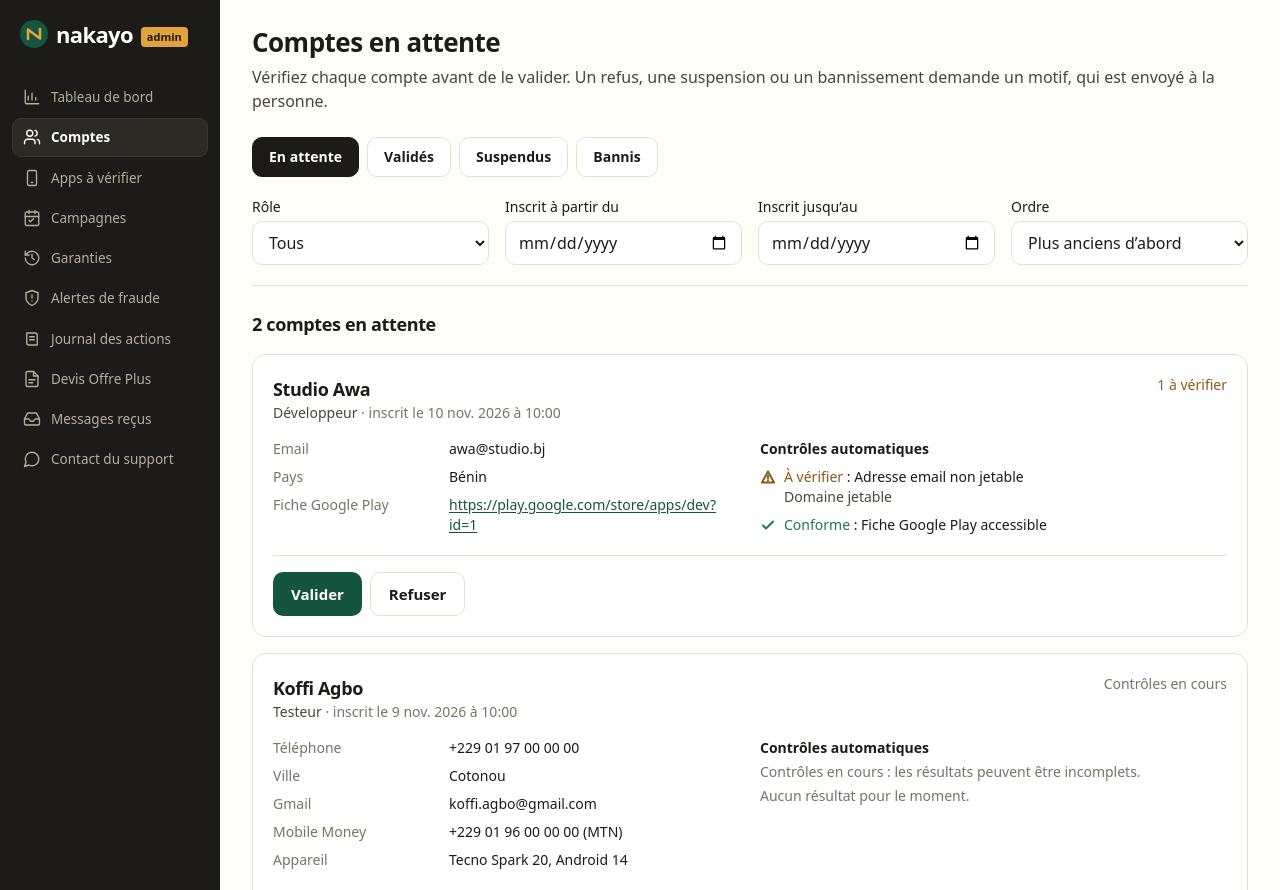
it: Back-office : comptes en attente (US-08) › valide un compte : appel API, retrait de la liste, annonce
Click the button with aria-label "Valider le compte de Studio Awa" at coordinates (317, 594), box x1=273 y1=572 x2=362 y2=616
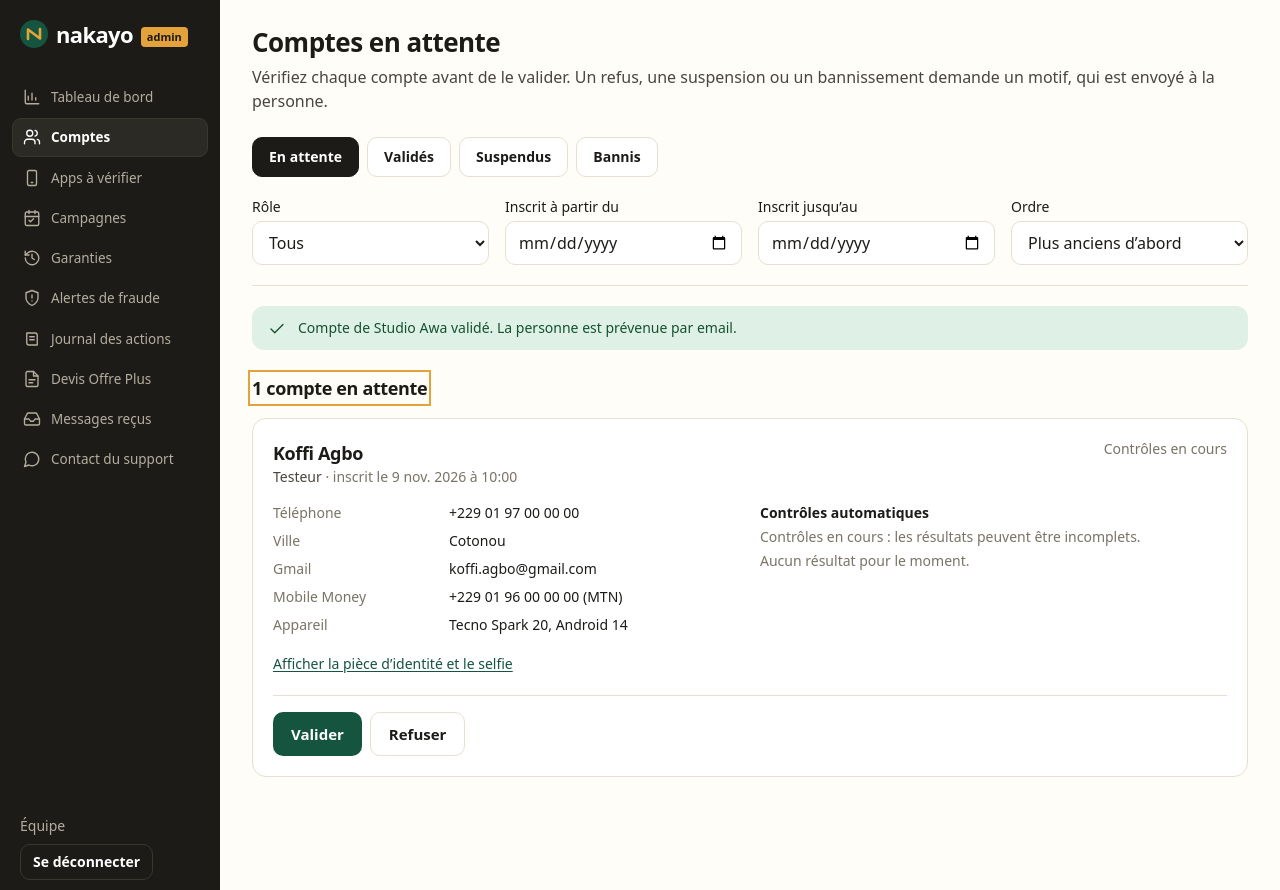
Expected: the text "Compte de Studio Awa validé. La personne est prévenue par email." is shown, x1=298 y1=318 x2=737 y2=338
Expected: the heading "1 compte en attente" is shown, x1=252 y1=374 x2=427 y2=402
